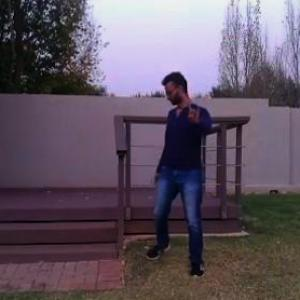takeoff-hand: (183, 94, 210, 128)
